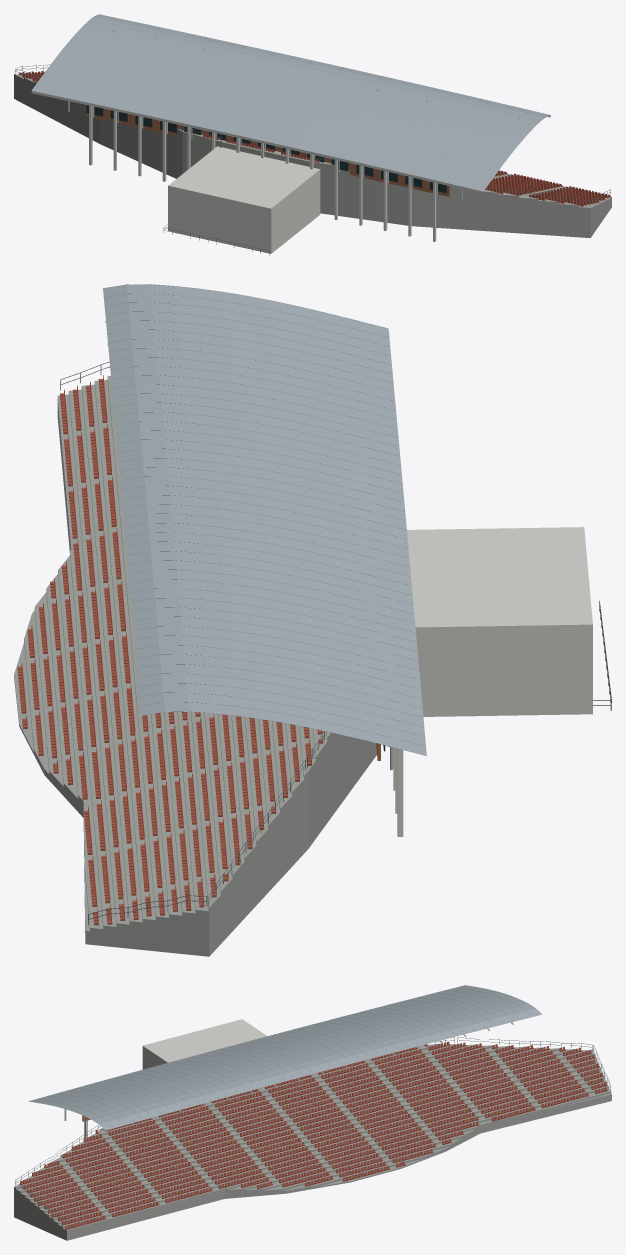
Rendered from osm_way_223859827.glb.
The picture shows the model from 3 angles, top to bottom: view 1: azimuth 30°, elevation 25°; view 2: azimuth 150°, elevation 25°; view 3: azimuth 270°, elevation 25°; orthographic projection. The views are drawn at different scales.
Parts seen in each view (by area): view 1: West grandstand • curved silver canopy, West grandstand • ribs red rear wall and entrance, Stadium • tiered seating, EXTERIOR::osm_way_223859827::structure and seating detail; view 2: West grandstand • curved silver canopy, Stadium • tiered seating, West grandstand • ribs red rear wall and entrance, EXTERIOR::osm_way_223859827::structure and seating detail; view 3: Stadium • tiered seating, West grandstand • curved silver canopy, EXTERIOR::osm_way_223859827::structure and seating detail, West grandstand • ribs red rear wall and entrance.
Part boxes in pixels (x1,y1,x2,y2): West grandstand • curved silver canopy: (31, 14, 550, 193); West grandstand • ribs red rear wall and entrance: (32, 14, 550, 253); Stadium • tiered seating: (14, 72, 611, 238); EXTERIOR::osm_way_223859827::structure and seating detail: (15, 64, 610, 255); West grandstand • curved silver canopy: (103, 284, 426, 755); Stadium • tiered seating: (14, 375, 376, 956); West grandstand • ribs red rear wall and entrance: (103, 284, 592, 836); EXTERIOR::osm_way_223859827::structure and seating detail: (21, 361, 611, 924); Stadium • tiered seating: (14, 1043, 611, 1240); West grandstand • curved silver canopy: (29, 985, 541, 1130); EXTERIOR::osm_way_223859827::structure and seating detail: (15, 1037, 610, 1227); West grandstand • ribs red rear wall and entrance: (29, 985, 541, 1139).
Bounding box in the file's own units: 79.75 × 18.28 × 107.
